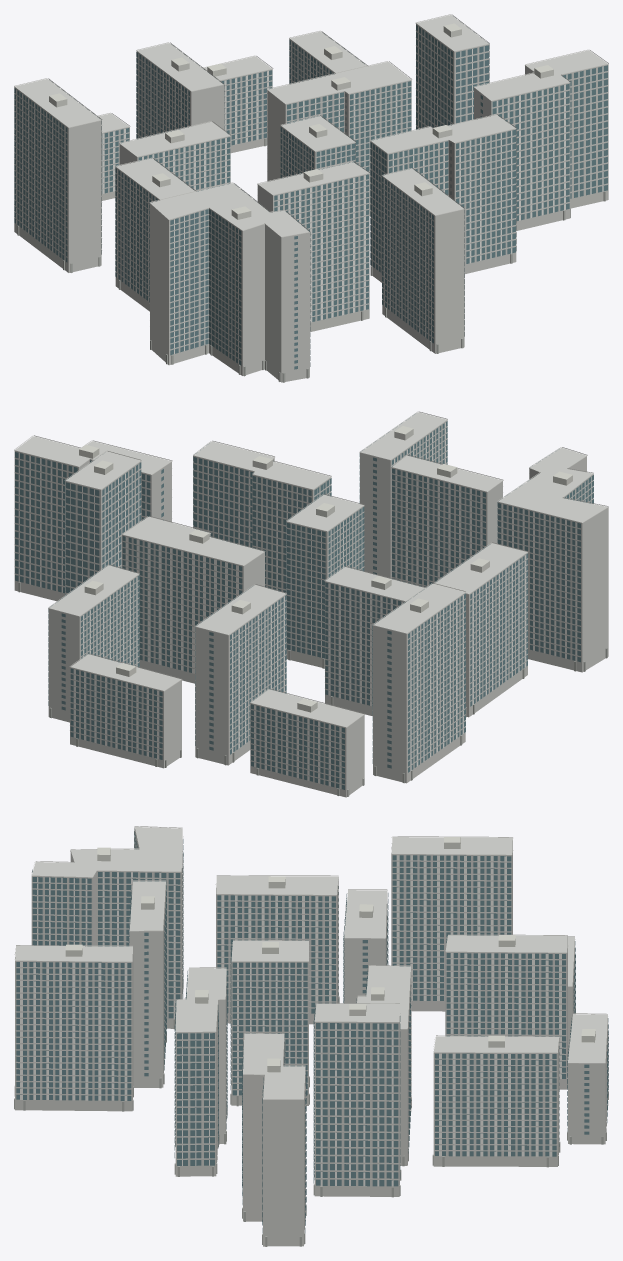
Rendered from representative-a13612002.glb.
3 views of the same model, one above another, from view 1: azimuth 30°, elevation 25°; view 2: azimuth 150°, elevation 25°; view 3: azimuth 270°, elevation 25° (orthographic). The views are drawn at different scales.
Visible parts, largest first — view 1: A13612002_wall001, A13612002_glass001, A13612002_trim001, A13612002_roof001, A13612002_base001; view 2: A13612002_wall001, A13612002_glass001, A13612002_trim001, A13612002_roof001, A13612002_base001; view 3: A13612002_wall001, A13612002_glass001, A13612002_trim001, A13612002_roof001, A13612002_base001.
Part boxes in pixels (x1,y1,x2,y2): A13612002_wall001: (14, 15, 608, 382); A13612002_glass001: (14, 16, 607, 369); A13612002_trim001: (14, 14, 608, 363); A13612002_roof001: (49, 23, 553, 219); A13612002_base001: (17, 138, 605, 382); A13612002_wall001: (14, 412, 608, 797); A13612002_glass001: (15, 414, 593, 789); A13612002_trim001: (14, 411, 608, 788); A13612002_roof001: (79, 426, 572, 712); A13612002_base001: (18, 582, 607, 796); A13612002_wall001: (15, 827, 607, 1246); A13612002_glass001: (16, 829, 608, 1233); A13612002_trim001: (14, 826, 608, 1220); A13612002_roof001: (65, 837, 595, 1072); A13612002_base001: (14, 978, 608, 1246).
Size of the model in its own units: 223 by 71.5 by 213.
